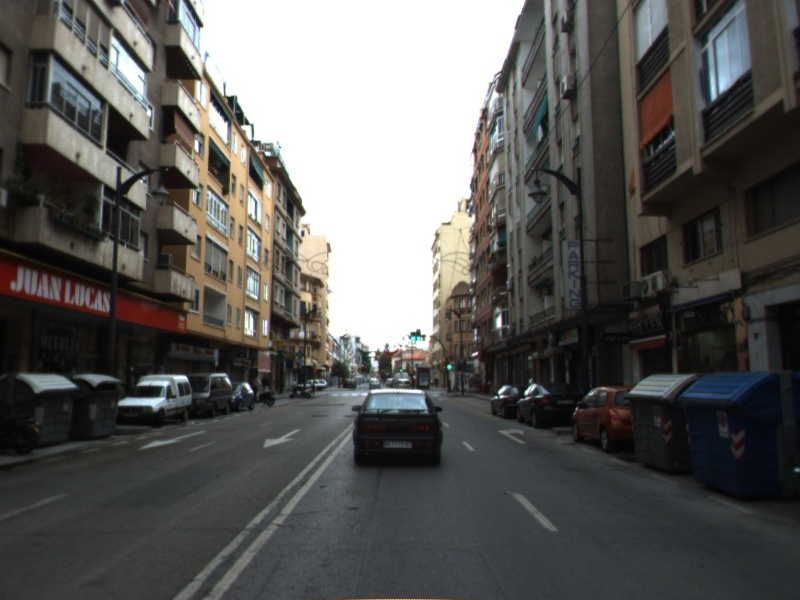RIGHT: (497, 426, 527, 446)
